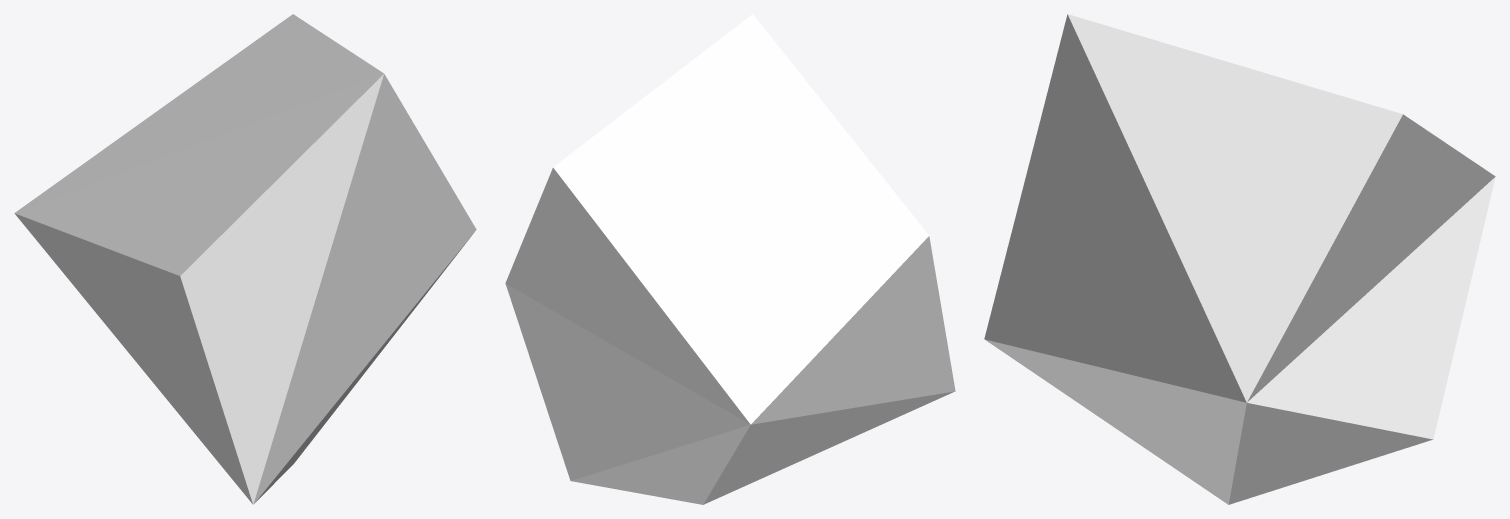
File: Gold Nugget.fbx
3 views of the same model, side by side, from view 1: azimuth 30°, elevation 25°; view 2: azimuth 150°, elevation 25°; view 3: azimuth 270°, elevation 25° (orthographic). The views are drawn at different scales.
Parts seen in each view (by area): view 1: Cube; view 2: Cube; view 3: Cube.
Boxes of the visible parts, left/top/right/bottom form: Cube: left=14, top=14, right=476, bottom=504; Cube: left=505, top=14, right=955, bottom=504; Cube: left=984, top=14, right=1495, bottom=504.
Size of the model in its own units: 107 by 124 by 114.
